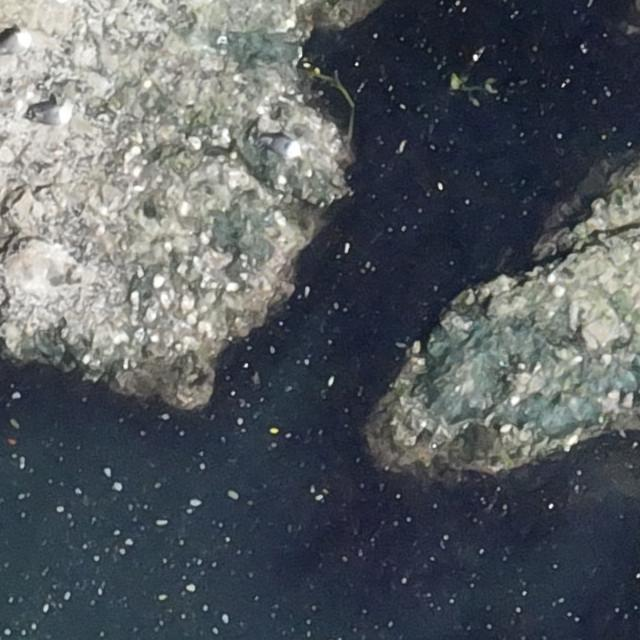umineko: (266, 136, 298, 156), (34, 108, 70, 125), (1, 34, 26, 55)
